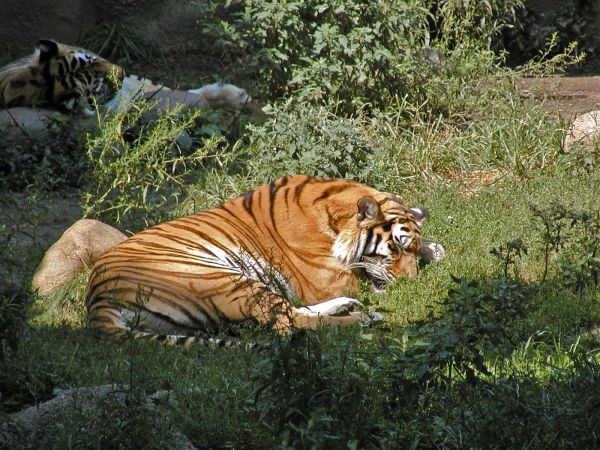Tigre: (93, 167, 447, 342)
